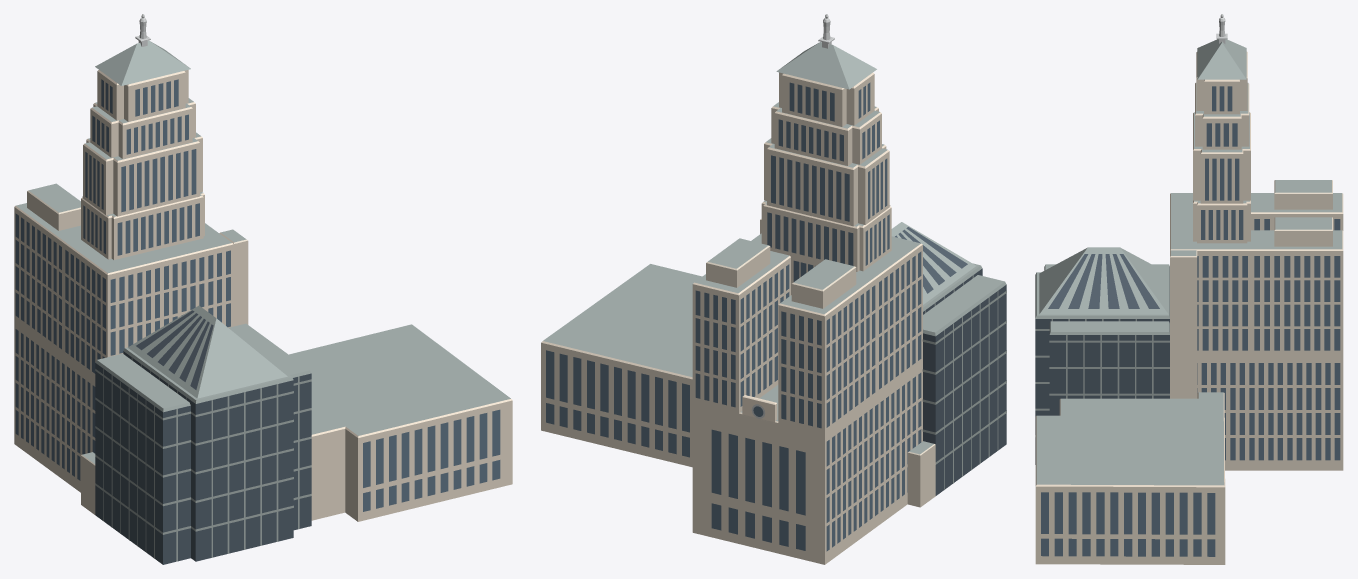
File: chi-board-of-trade.glb
3 renders of one model, left to right at view 1: azimuth 30°, elevation 25°; view 2: azimuth 150°, elevation 25°; view 3: azimuth 270°, elevation 25°, orthographic. The views are drawn at different scales.
Visible parts, largest first — view 1: Chicago Board of Trade Building; view 2: Chicago Board of Trade Building; view 3: Chicago Board of Trade Building.
Part boxes in pixels (x1,y1,x2,y2): Chicago Board of Trade Building: (14,14,512,564); Chicago Board of Trade Building: (541,14,1006,564); Chicago Board of Trade Building: (1035,14,1343,564).
Bounding box in the file's own units: 145 × 184 × 120.
